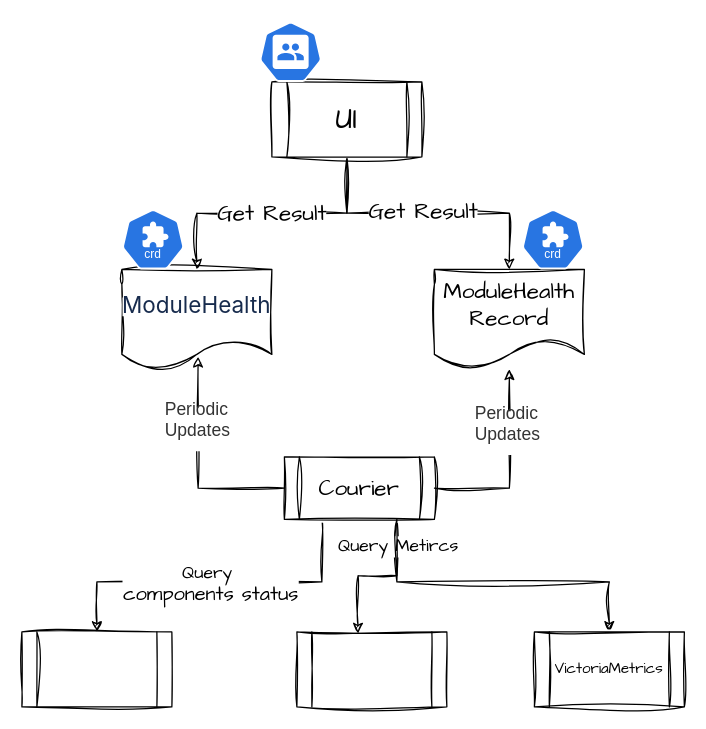
Image size: 706x729. Some labels were removed from this diagram. Here are the shapes that lost their labels. From the top down, the box of each, then its label:
(21, 631, 172, 707): Kubernetes API
(296, 631, 447, 707): Prometheus
